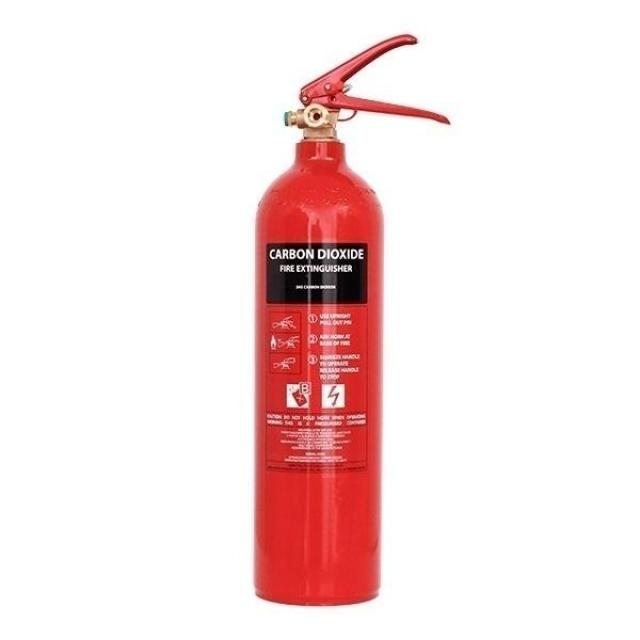fire_extinguisher: (243, 28, 457, 609)
